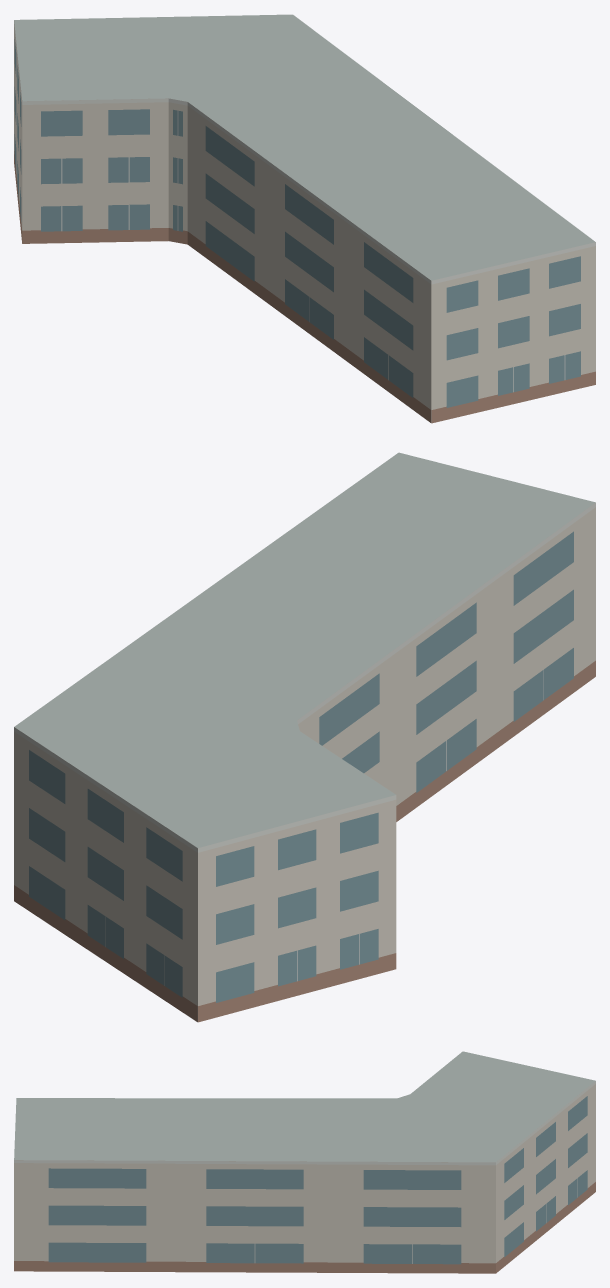
The model's file is survey-upis-32680429.glb.
3 renders of one model, top to bottom at view 1: azimuth 30°, elevation 25°; view 2: azimuth 150°, elevation 25°; view 3: azimuth 270°, elevation 25°, orthographic. The views are drawn at different scales.
Visible parts, largest first — view 1: survey-upis-32680429.tmp; view 2: survey-upis-32680429.tmp; view 3: survey-upis-32680429.tmp.
Part boxes in pixels (left/top/right/bottom): survey-upis-32680429.tmp: left=14, top=14, right=595, bottom=423; survey-upis-32680429.tmp: left=14, top=452, right=595, bottom=1022; survey-upis-32680429.tmp: left=14, top=1051, right=595, bottom=1273.
Bounding box in the file's own units: 19.6 × 9.15 × 43.38.
